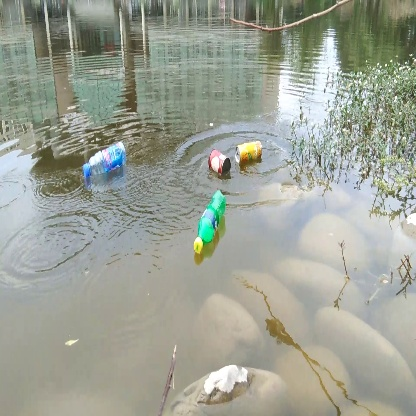bottle: (188, 190, 231, 257), (81, 139, 130, 182), (234, 139, 267, 164), (206, 149, 232, 178)
